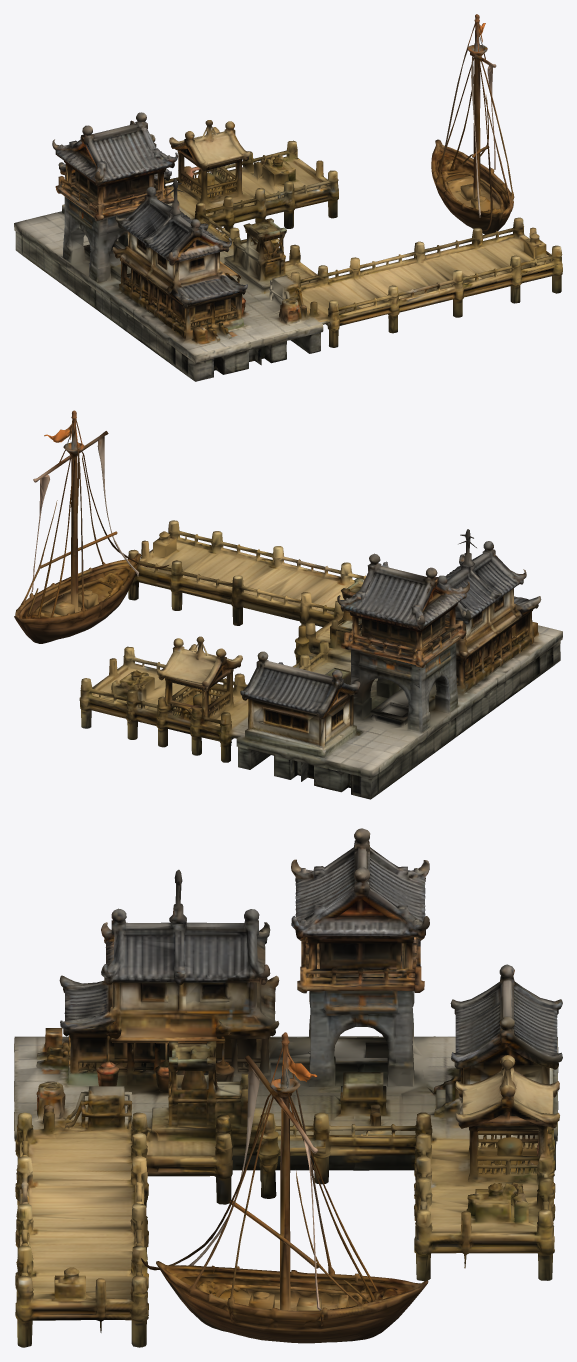
File: JiangnanDock.glb
3 renders of one model, top to bottom at view 1: azimuth 30°, elevation 25°; view 2: azimuth 150°, elevation 25°; view 3: azimuth 270°, elevation 25°, orthographic. The views are drawn at different scales.
Visible parts, largest first — view 1: node_0; view 2: node_0; view 3: node_0.
Part boxes in pixels (x1,y1,x2,y2): node_0: (14,14,562,381); node_0: (14,410,562,799); node_0: (14,828,562,1347).
Bounding box in the file's own units: 0.9047 × 0.4496 × 0.7043.
1 material, 1 textured.
